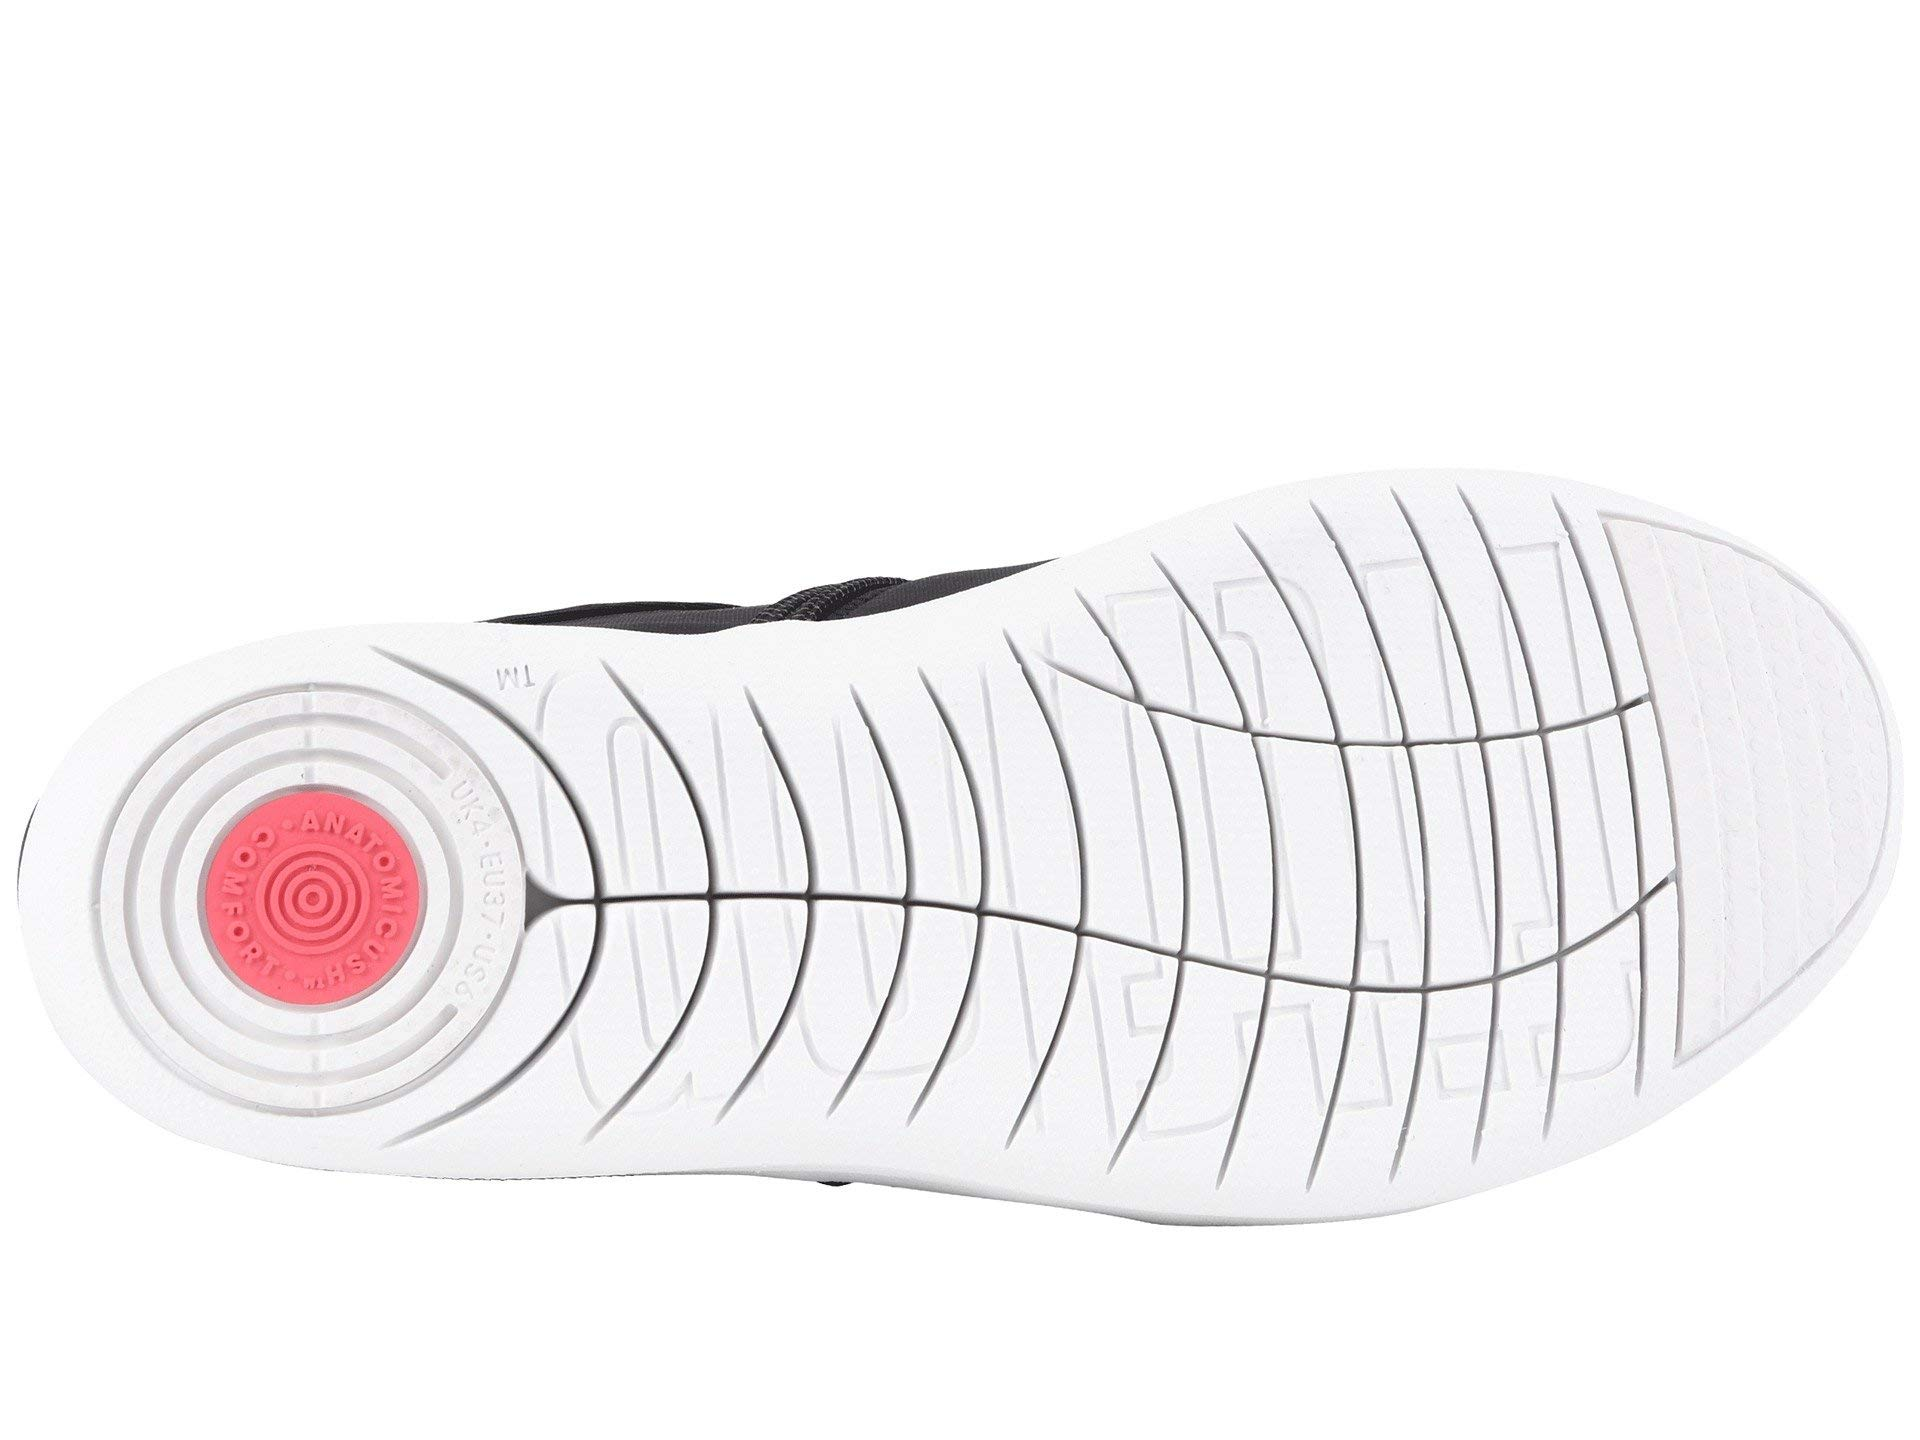circle: (147, 776, 472, 1095)
line: (440, 644, 1005, 1206)
quad: (1011, 523, 1599, 1209), (440, 644, 1005, 1206)
text: (1011, 523, 1599, 1209), (440, 644, 1005, 1206), (147, 776, 472, 1095)
